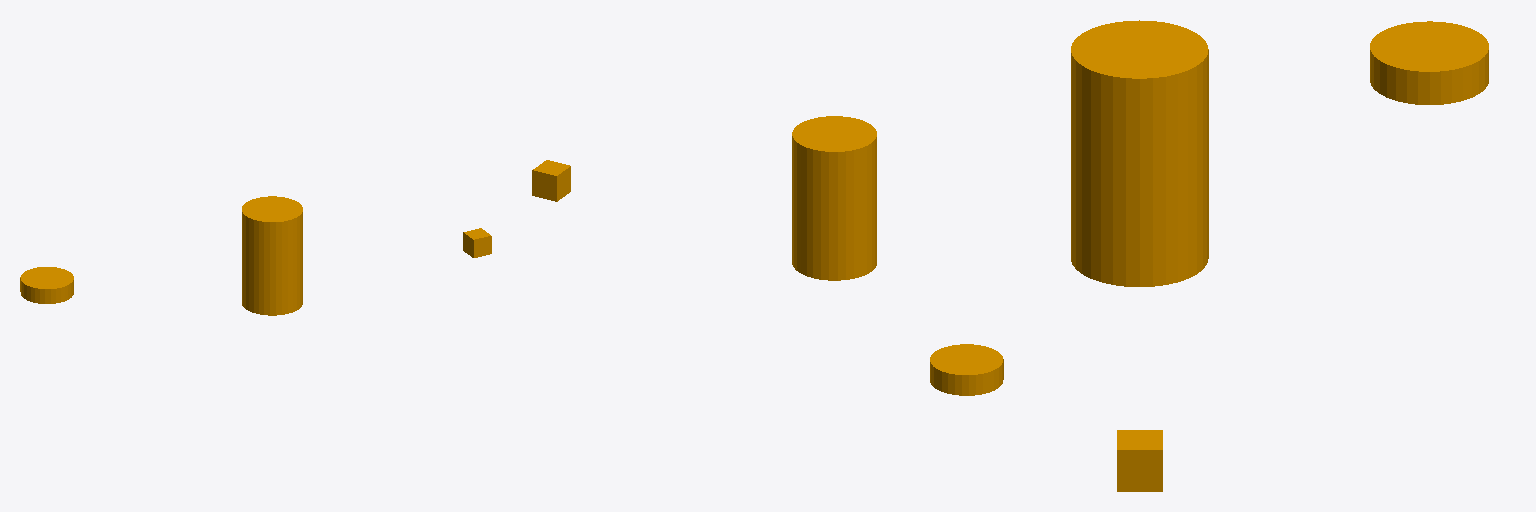
The robot description file, URDF, robot "ROBOTIKA_X2":
<?xml version='1.0' encoding='utf-8'?>
<robot name='ROBOTIKA_X2'>
  <link name='base_link'>
    <inertial>
      <origin xyz='0.011999 0.002 0.066996' rpy='0 -0 0'/>
      <mass value='16.524'/>
      <inertia ixx='0.320605' ixy='-0.000800023' ixz='0.0163992' iyy='0.399205' iyz='-0.000900133' izz='0.455501'/>
    </inertial>
    <collision name='chassis_collision'>
      <origin xyz='0 0 0.092' rpy='0 -0 0'/>
      <geometry>
        <box size='0.42 0.31 0.184'/>
      </geometry>
    </collision>
    <visual name='chassis_visual'>
      <origin xyz='0 0 -0.0655' rpy='1.5708 0 -1.5708'/>
      <geometry>
        <mesh filename='package:meshes/x2_chassis.dae' scale='1 1 1'/>
      </geometry>
    </visual>
    <visual name='navsat_visual_1'>
      <origin xyz='-0.18 0.126 0.1895' rpy='0 -0 0'/>
      <geometry>
        <cylinder radius='0.026' length='0.016'/>
      </geometry>
    </visual>
    <visual name='center_left_headlight_visual'>
      <origin xyz='0.22 0.05 0.0845' rpy='0 0 -3.14159'/>
      <geometry>
        <mesh filename='package:meshes/headlight.dae' scale='1 1 1'/>
      </geometry>
    </visual>
    <visual name='left_headlight_visual'>
      <origin xyz='0.22 0.145 0.0845' rpy='0 0 -3.14159'/>
      <geometry>
        <mesh filename='package:meshes/headlight.dae' scale='1 1 1'/>
      </geometry>
    </visual>
    <visual name='center_right_headlight_visual'>
      <origin xyz='0.22 -0.05 0.0845' rpy='0 0 -3.14159'/>
      <geometry>
        <mesh filename='package:meshes/headlight.dae' scale='1 1 1'/>
      </geometry>
    </visual>
    <visual name='right_headlight_visual'>
      <origin xyz='0.22 -0.145 0.0845' rpy='0 0 -3.14159'/>
      <geometry>
        <mesh filename='package:meshes/headlight.dae' scale='1 1 1'/>
      </geometry>
    </visual>
    <visual name='camera_visual'>
      <origin xyz='0.23 0 0.19' rpy='0 -0 0'/>
      <geometry>
        <box size='0.02 0.02 0.02'/>
      </geometry>
    </visual>
    <visual name='laser_visual'>
      <origin xyz='0 0 0.23' rpy='0 -0 0'/>
      <geometry>
        <cylinder radius='0.03' length='0.1'/>
      </geometry>
    </visual>
  </link>
  <sensor name='imu_sensor' update_rate='50'>
    <parent link='base_link'/>
    <origin xyz='0 0 0' rpy='0 -0 0'/>
  </sensor>
  <sensor name='camera_front' update_rate='20'>
    <parent link='base_link'/>
    <origin xyz='0.23 0 0.19' rpy='0 -0 0'/>
    <camera>
      <image width='640' height='360' format='R8G8B8' hfov='1.5' near='0.01' far='300' />
    </camera>
  </sensor>
  <sensor name='front_laser' update_rate='20'>
    <parent link='base_link'/>
    <origin xyz='0 0 0.23' rpy='0 -0 0'/>
  </sensor>
  <link name='front_left_wheel'>
    <inertial>
      <origin xyz='0 0 0' rpy='0 -0 0'/>
      <mass value='0.477'/>
      <inertia ixx='0.0013' ixy='0' ixz='0' iyy='0.0024' iyz='0' izz='0.0013'/>
    </inertial>
    <collision name='collision'>
      <origin xyz='0 0 0' rpy='1.5708 -0 0'/>
      <geometry>
        <cylinder radius='0.098' length='0.04'/>
      </geometry>
    </collision>
    <visual name='visual'>
      <origin xyz='0 0 0' rpy='1.5708 -0 0'/>
      <geometry>
        <mesh filename='package:meshes/x2_wheel_left.dae' scale='1 1 1'/>
      </geometry>
    </visual>
  </link>
  <link name='front_right_wheel'>
    <inertial>
      <origin xyz='0 0 0' rpy='0 -0 0'/>
      <mass value='0.477'/>
      <inertia ixx='0.0013' ixy='0' ixz='0' iyy='0.0024' iyz='0' izz='0.0013'/>
    </inertial>
    <collision name='collision'>
      <origin xyz='0 0 0' rpy='1.5708 -0 0'/>
      <geometry>
        <cylinder radius='0.098' length='0.04'/>
      </geometry>
    </collision>
    <visual name='visual'>
      <origin xyz='0 0 0' rpy='1.5708 -0 0'/>
      <geometry>
        <mesh filename='package:meshes/x2_wheel_right.dae' scale='1 1 1'/>
      </geometry>
    </visual>
  </link>
  <link name='rear_left_wheel'>
    <inertial>
      <origin xyz='0 0 0' rpy='0 -0 0'/>
      <mass value='0.477'/>
      <inertia ixx='0.0013' ixy='0' ixz='0' iyy='0.0024' iyz='0' izz='0.0013'/>
    </inertial>
    <collision name='collision'>
      <origin xyz='0 0 0' rpy='1.5708 -0 0'/>
      <geometry>
        <cylinder radius='0.098' length='0.04'/>
      </geometry>
    </collision>
    <visual name='visual'>
      <origin xyz='0 0 0' rpy='1.5708 -0 0'/>
      <geometry>
        <mesh filename='package:meshes/x2_wheel_left.dae' scale='1 1 1'/>
      </geometry>
    </visual>
  </link>
  <link name='rear_right_wheel'>
    <inertial>
      <origin xyz='0 0 0' rpy='0 -0 0'/>
      <mass value='0.477'/>
      <inertia ixx='0.0013' ixy='0' ixz='0' iyy='0.0024' iyz='0' izz='0.0013'/>
    </inertial>
    <collision name='collision'>
      <origin xyz='0 0 0' rpy='1.5708 -0 0'/>
      <geometry>
        <cylinder radius='0.098' length='0.04'/>
      </geometry>
    </collision>
    <visual name='visual'>
      <origin xyz='0 0 0' rpy='1.5708 -0 0'/>
      <geometry>
        <mesh filename='package:meshes/x2_wheel_right.dae' scale='1 1 1'/>
      </geometry>
    </visual>
  </link>
  <joint name='front_left_wheel_joint' type='revolute'>
    <origin xyz='0.131 0.187795 0.0345' rpy='0 -0 0'/>
    <parent link='base_link'/>
    <child link='front_left_wheel'/>
    <axis xyz='0 1 0'/>
    <limit lower='-1e+16' upper='1e+16' effort='-1' velocity='-1'/>
  </joint>
  <joint name='rear_left_wheel_joint' type='revolute'>
    <origin xyz='-0.131 0.187795 0.0345' rpy='0 -0 0'/>
    <parent link='base_link'/>
    <child link='rear_left_wheel'/>
    <axis xyz='0 1 0'/>
    <limit lower='-1.79769e+308' upper='1.79769e+308' effort='-1' velocity='-1'/>
  </joint>
  <joint name='rear_right_wheel_joint' type='revolute'>
    <origin xyz='-0.131 -0.187795 0.0345' rpy='0 -0 0'/>
    <parent link='base_link'/>
    <child link='rear_right_wheel'/>
    <axis xyz='0 1 0'/>
    <limit lower='-1.79769e+308' upper='1.79769e+308' effort='-1' velocity='-1'/>
  </joint>
  <joint name='front_right_wheel_joint' type='revolute'>
    <origin xyz='0.131 -0.187795 0.0345' rpy='0 -0 0'/>
    <parent link='base_link'/>
    <child link='front_right_wheel'/>
    <axis xyz='0 1 0'/>
    <limit lower='-1.79769e+308' upper='1.79769e+308' effort='-1' velocity='-1'/>
  </joint>
</robot>

--- What the picture shows (computed from the rendered views, not written in the file) ---
3 views of the same robot in one strip: view 1: azimuth 30°, elevation 25°; view 2: azimuth 150°, elevation 25°; view 3: azimuth 270°, elevation 25° (orthographic).
Robot: ROBOTIKA_X2 — 5 links, 4 joints (4 revolute); root link base_link; default pose: all joints at 0.
Links seen in each view (by area): view 1: base_link; view 2: base_link; view 3: base_link.
Boxes of the visible links, x1=… form: base_link: x1=20, y1=196, x2=491, y2=315; base_link: x1=532, y1=116, x2=1003, y2=395; base_link: x1=1071, y1=20, x2=1488, y2=491.
Bounding box of the posed robot: 0.446 × 0.182 × 0.1 m (x, y, z).
Geometry: only primitive shapes (box / cylinder / sphere) drawn; not drawn: 9 mesh visuals (reference in a form the renderer does not follow).